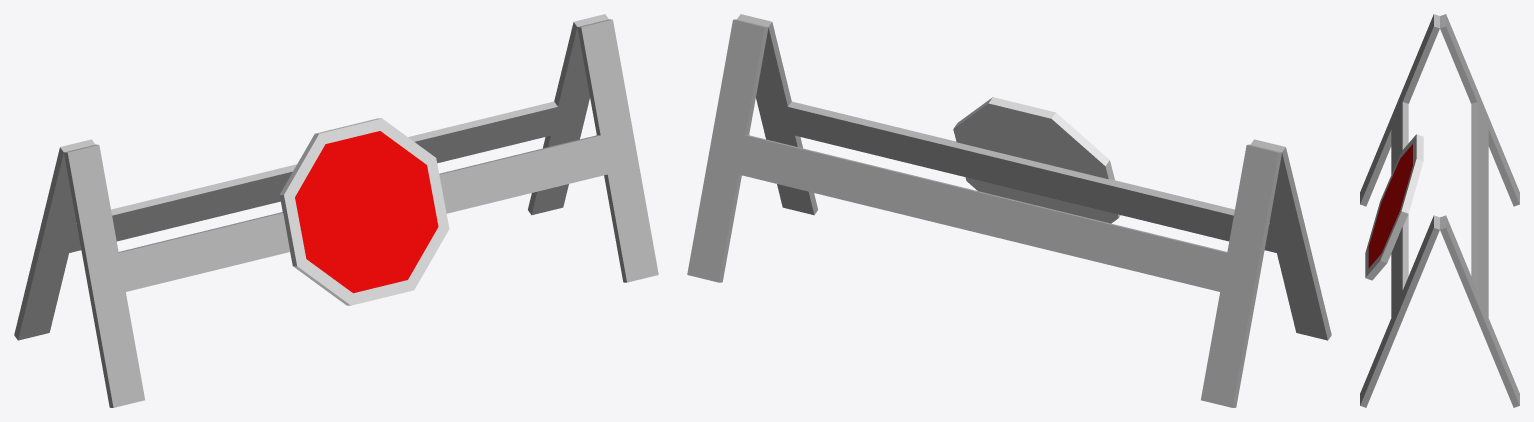
The model's file is Stop.fbx.
3 views of the same model, side by side, from view 1: azimuth 30°, elevation 25°; view 2: azimuth 150°, elevation 25°; view 3: azimuth 270°, elevation 25° (orthographic). The views are drawn at different scales.
Visible parts, largest first — view 1: Cube; view 2: Cube; view 3: Cube.
Part boxes in pixels (x1,y1,x2,y2): Cube: (14,14,658,407); Cube: (687,14,1331,407); Cube: (1360,14,1519,407).
Bounding box in the file's own units: 534 × 210 × 169.
